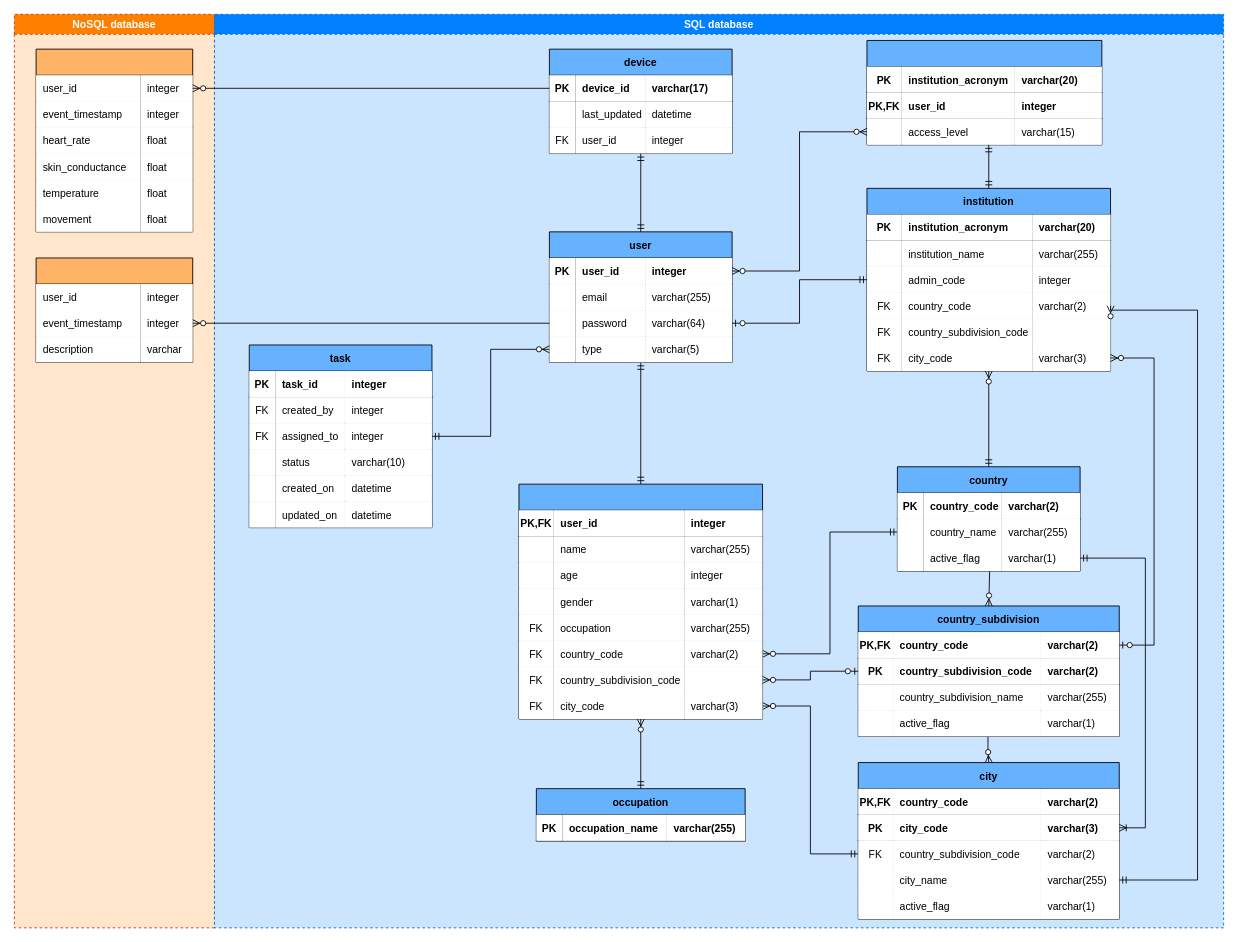
Image size: 1238x942. Some labels were removed from this diagram. Here are the shapes that lost their labels. From the top down, the box of each, then its label:
(866, 40, 1102, 145): group
(35, 48, 193, 232): sensor_data
(35, 257, 193, 362): activities
(518, 483, 763, 719): profile
